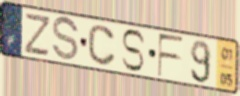9: (190, 38, 213, 86)
C: (87, 24, 118, 68)
F: (157, 32, 185, 79)
S: (50, 15, 80, 64), (120, 28, 147, 74)
Z: (22, 12, 53, 59)
